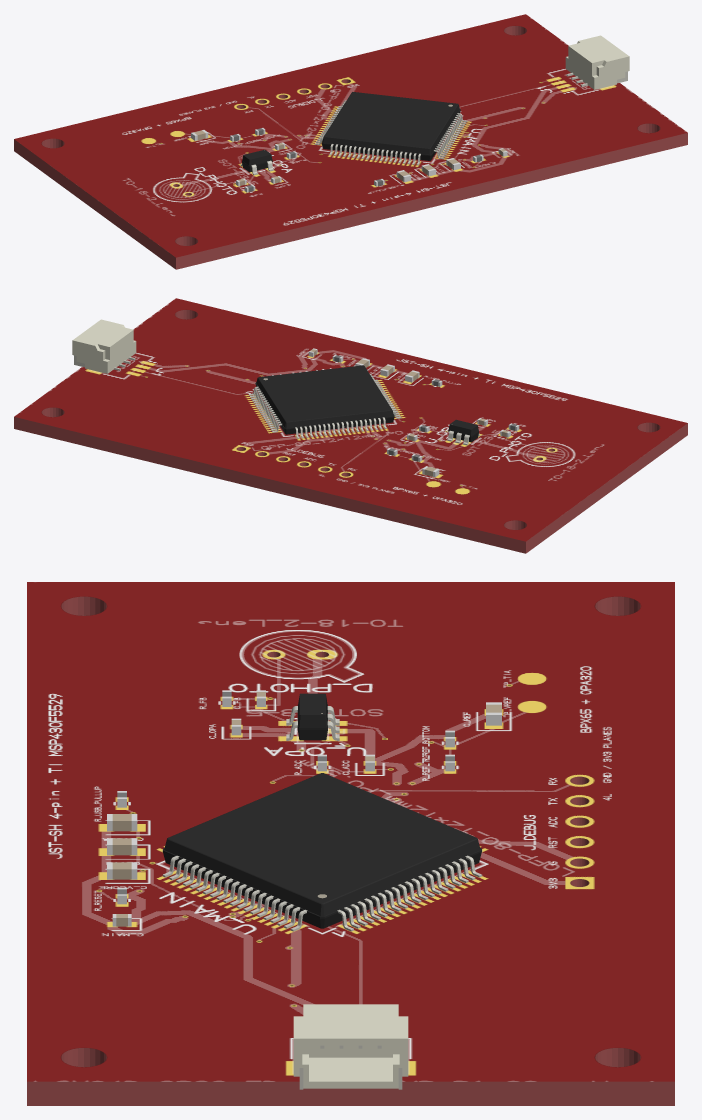
The picture shows the model from 3 angles, top to bottom: view 1: azimuth 30°, elevation 25°; view 2: azimuth 150°, elevation 25°; view 3: azimuth 270°, elevation 25°; orthographic projection. The views are drawn at different scales.
Parts seen in each view (by area): view 1: Box0, U_MAIN, J1, U_OPA; view 2: Box0, U_MAIN, J1, U_OPA; view 3: Box0, U_MAIN, J1, U_OPA.
Part boxes in pixels (left/top/right/bottom): Box0: left=14, top=14, right=687, bottom=269; U_MAIN: left=314, top=92, right=467, bottom=165; J1: left=565, top=35, right=629, bottom=89; U_OPA: left=240, top=149, right=273, bottom=175; Box0: left=14, top=298, right=687, bottom=553; U_MAIN: left=248, top=365, right=401, bottom=438; J1: left=72, top=319, right=136, bottom=373; U_OPA: left=447, top=419, right=480, bottom=445; Box0: left=27, top=582, right=674, bottom=1105; U_MAIN: left=162, top=773, right=482, bottom=931; J1: left=293, top=1004, right=408, bottom=1089; U_OPA: left=286, top=693, right=339, bottom=740.
Size of the model in its own units: 63 by 4.36 by 34.
10 materials, 2 textured.
